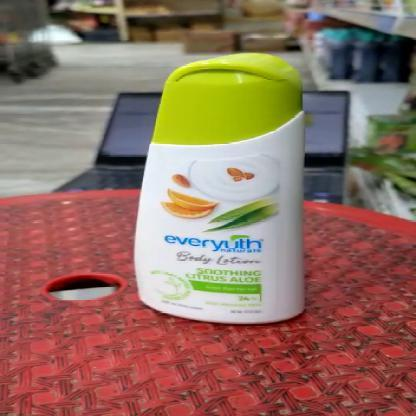Everyuth Naturals Body Lotion Soothing Citrus 200ml: (128, 50, 310, 328)
